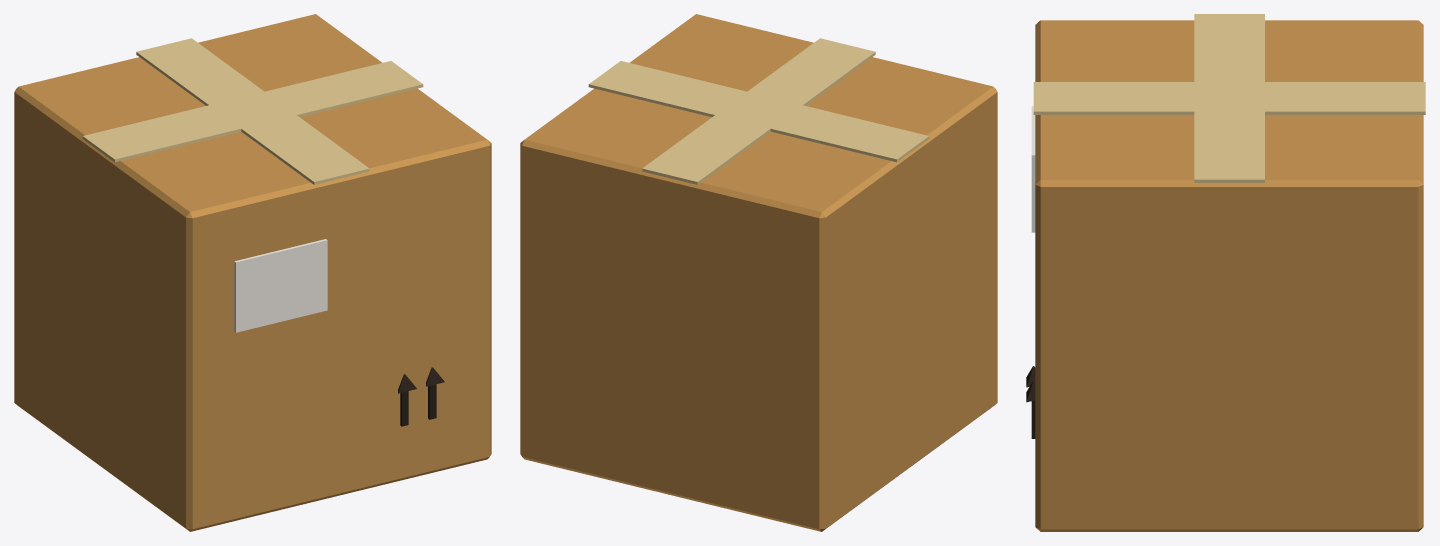
The model's file is cardboard_box.glb.
3 renders of one model, left to right at view 1: azimuth 30°, elevation 25°; view 2: azimuth 150°, elevation 25°; view 3: azimuth 270°, elevation 25°, orthographic. The views are drawn at different scales.
Visible parts, largest first — view 1: cardboard_box; view 2: cardboard_box; view 3: cardboard_box.
Part boxes in pixels (bbox=[...]): cardboard_box: bbox=[14, 14, 491, 531]; cardboard_box: bbox=[520, 14, 997, 531]; cardboard_box: bbox=[1026, 14, 1425, 531].
Size of the model in its own units: 0.444 by 0.444 by 0.452.
